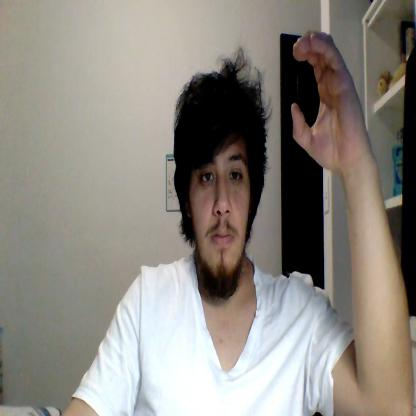C: (292, 29, 367, 169)
